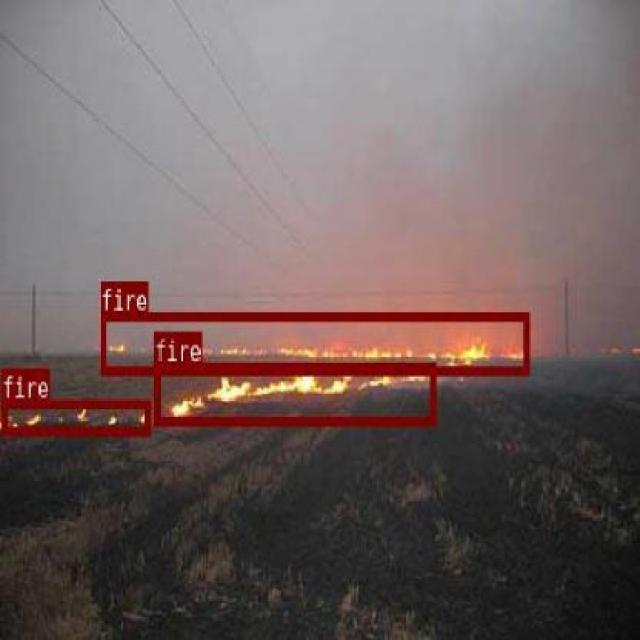Fire: (100, 312, 528, 374)
Smoke: (153, 362, 434, 424), (0, 398, 148, 433)
